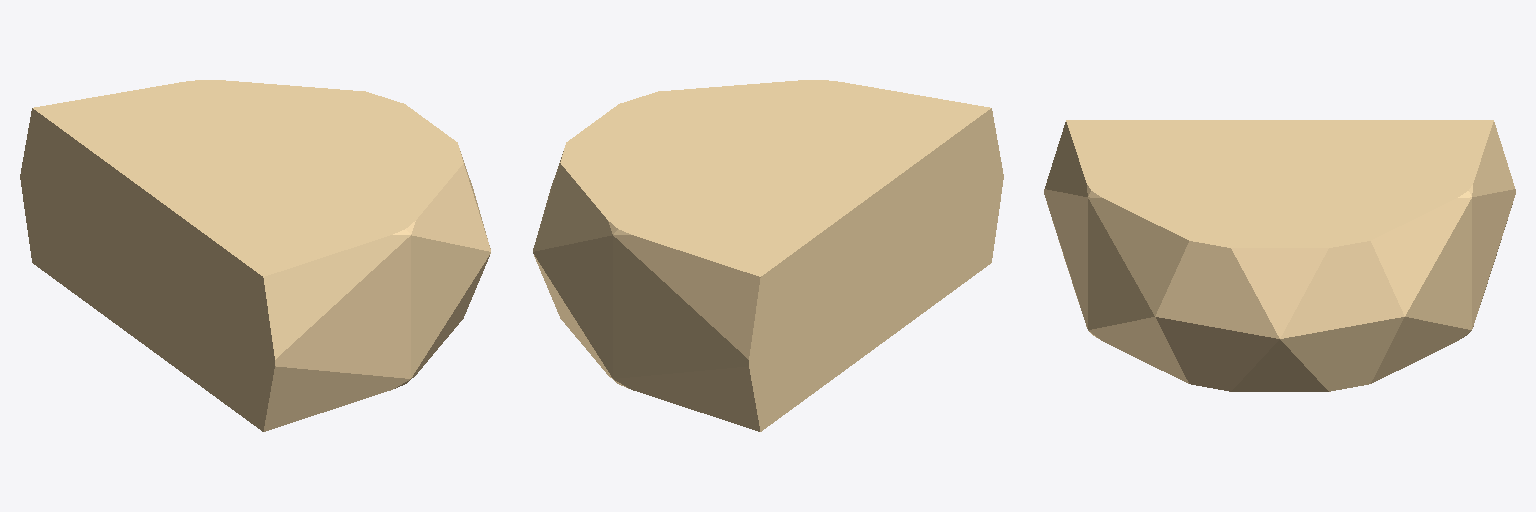
The robot description file, URDF, robot "potato2":
<?xml version="1.0"?>
<robot name="potato2"
       xmlns:xi="http://www.w3.org/2001/XInclude">
  <gazebo>
    <static>false</static>
  </gazebo>
  <link name="nil_link">
    <visual>
      <origin xyz="0 0 0" rpy="0 -0 0"/>
      <geometry>
        <mesh filename="model://potato2/meshes/nil_link_mesh.dae" scale="1 1 1" />
      </geometry>
    </visual>
    <collision>
      <origin xyz="0 0 0" rpy="0 -0 0"/>
      <geometry>
        <mesh filename="model://potato2/meshes/nil_link_mesh.dae" scale="1 1 1" />
      </geometry>
    </collision>
    <inertial>
      <mass value="0.001" />
      <origin xyz="0 0 0" rpy="0 -0 0"/>
      <inertia ixx="1e-03" ixy="0" ixz="0" iyy="1e-03" iyz="0" izz="1e-03"/>
    </inertial>
  </link>
  <gazebo reference="nil_link">
    <mu1>0.9</mu1>
    <mu2>0.9</mu2>
  </gazebo>
</robot>

--- What the picture shows (computed from the rendered views, not written in the file) ---
The picture shows the robot from 3 angles, left to right: view 1: azimuth 30°, elevation 25°; view 2: azimuth 150°, elevation 25°; view 3: azimuth 270°, elevation 25°; orthographic projection.
Robot: potato2 — 1 links, 0 joints (none); root link nil_link; default pose: all joints at 0.
Visible links, largest first — view 1: nil_link; view 2: nil_link; view 3: nil_link.
Boxes of the visible links, x1,y1,x2,y2 form: nil_link: (20, 80, 490, 431); nil_link: (533, 80, 1003, 431); nil_link: (1044, 120, 1515, 391).
Size in the robot's own frame: 0.044 by 0.0595 by 0.02 metres.
Meshes: 1 distinct files referenced, 1 mesh visuals loaded (1 Collada DAE).